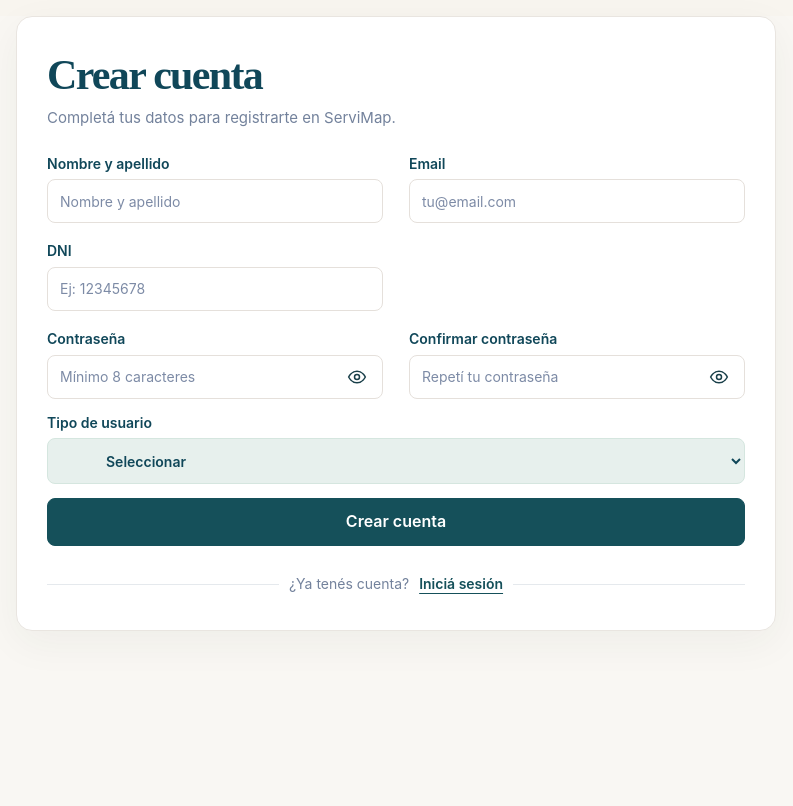
Test: Registro de usuario › detecta un email inválido
In the field labelled "Email": x=577, y=201 [409, 179, 745, 223], type "correo-invalido"
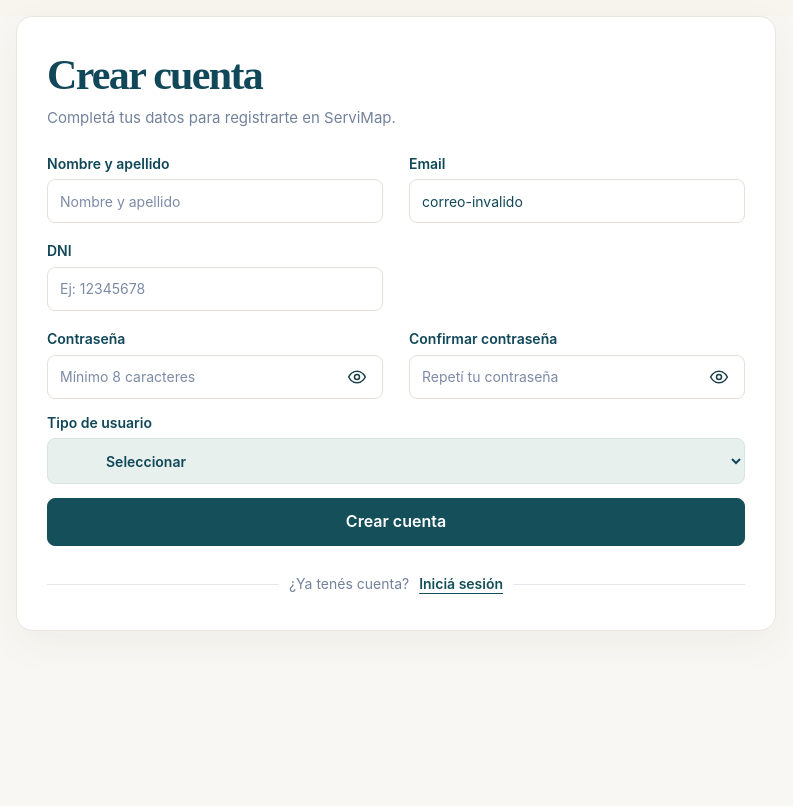
Click the button "Crear cuenta": x=396, y=522 [47, 498, 745, 546]
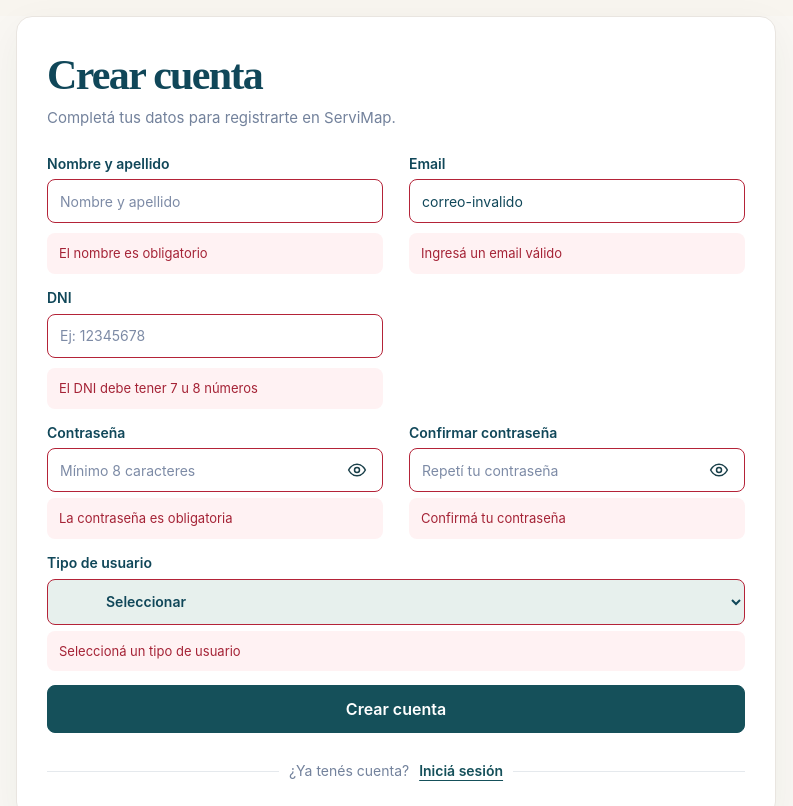
Now the text "Ingresá un email válido" is shown, box [409, 233, 745, 274]
